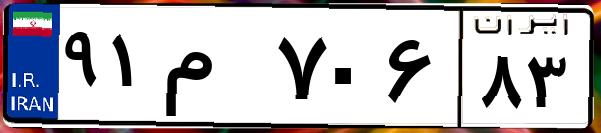0: (330, 28, 385, 110)
1: (110, 28, 158, 98)
3: (525, 38, 570, 115)
6: (385, 28, 445, 110)
7: (270, 28, 330, 110)
8: (475, 38, 525, 113)
9: (57, 26, 110, 100)
م: (158, 20, 270, 120)
